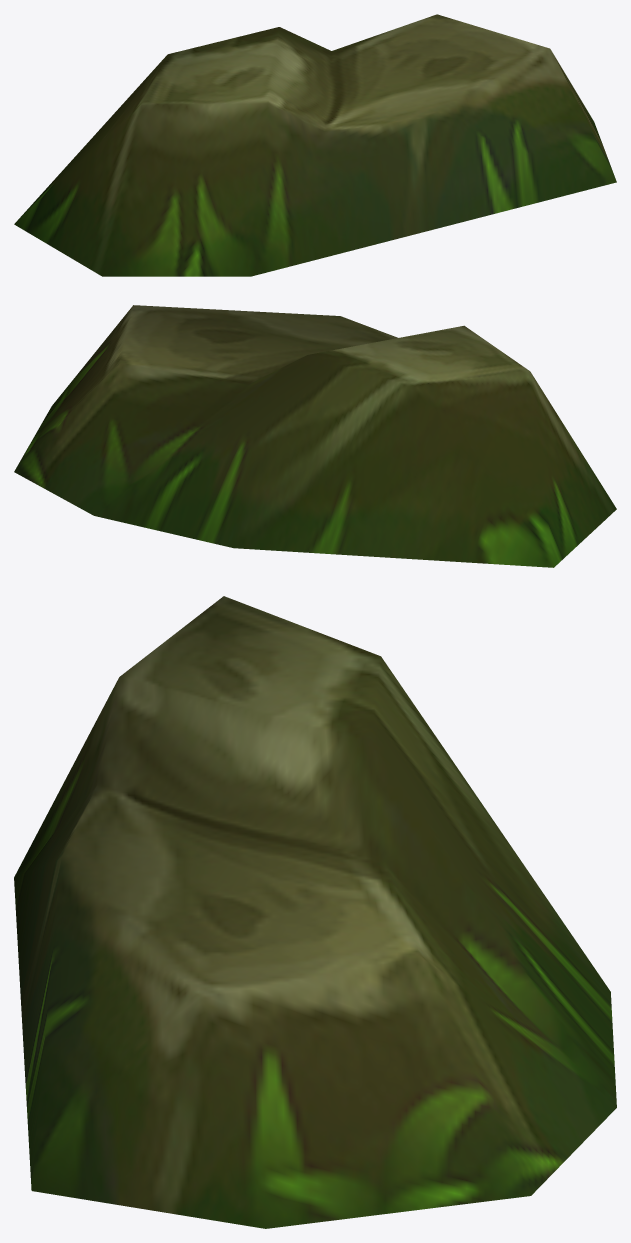
The model's file is floor_rocks_01.fbx.
3 renders of one model, top to bottom at view 1: azimuth 30°, elevation 25°; view 2: azimuth 150°, elevation 25°; view 3: azimuth 270°, elevation 25°, orthographic. The views are drawn at different scales.
Parts seen in each view (by area): view 1: floor_rocks_01; view 2: floor_rocks_01; view 3: floor_rocks_01.
Part boxes in pixels (bbox=[...]): floor_rocks_01: bbox=[14, 14, 616, 276]; floor_rocks_01: bbox=[14, 305, 616, 567]; floor_rocks_01: bbox=[14, 596, 616, 1228].
Bounding box in the file's own units: 102 × 25.74 × 57.1.
